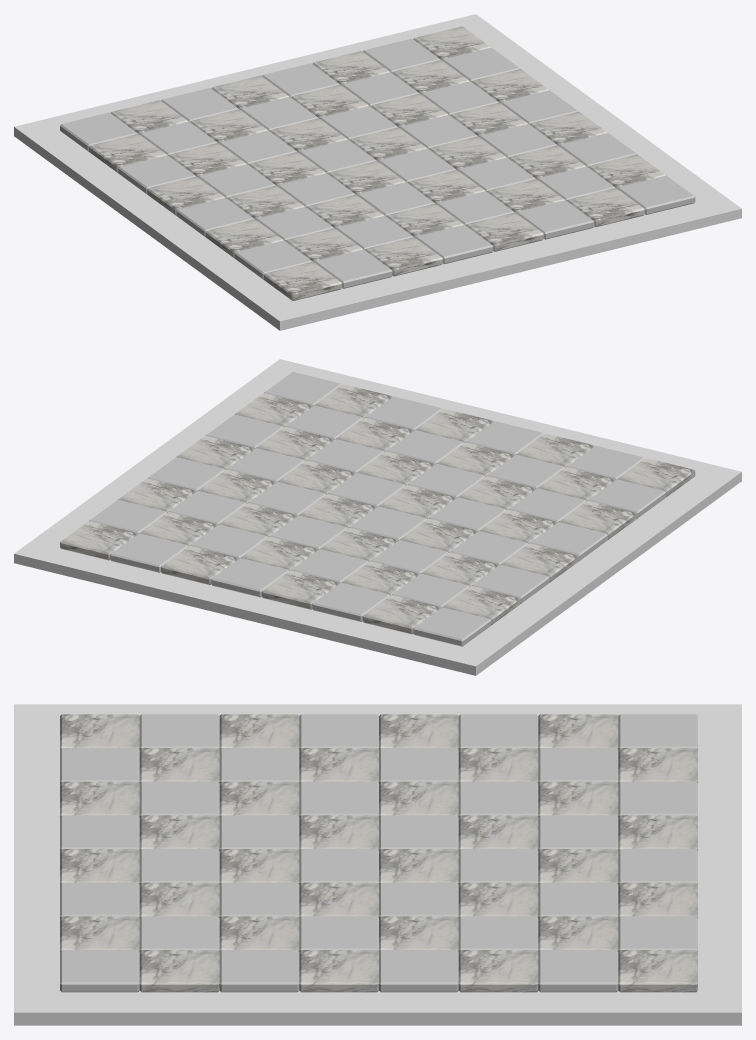
File: board.fbx
3 views of the same model, one above another, from view 1: azimuth 30°, elevation 25°; view 2: azimuth 150°, elevation 25°; view 3: azimuth 270°, elevation 25° (orthographic). The views are drawn at different scales.
Parts seen in each view (by area): view 1: Cube.001, Cube, Cube.005, Cube.006, Cube.003, Cube.007, Cube.002, Cube.004, Cube.008, Cube.041, Cube.009, Cube.033 (+53 smaller); view 2: Cube.001, Cube.057, Cube.060, Cube.058, Cube.064, Cube.059, Cube.063, Cube.062, Cube.061, Cube.033, Cube.009, Cube.041 (+53 smaller); view 3: Cube.001, Cube.016, Cube.048, Cube.024, Cube.056, Cube.032, Cube.064, Cube.008, Cube.040, Cube.043, Cube.019, Cube.046 (+53 smaller).
Boxes of the visible parts, <box> form: Cube.001: <box>14,14,741,330</box>; Cube: <box>264,262,341,300</box>; Cube.005: <box>466,212,543,251</box>; Cube.006: <box>516,200,594,239</box>; Cube.003: <box>365,237,442,276</box>; Cube.007: <box>567,188,644,227</box>; Cube.002: <box>314,249,392,288</box>; Cube.004: <box>415,225,493,264</box>; Cube.008: <box>617,175,695,214</box>; Cube.041: <box>118,155,195,194</box>; Cube.009: <box>234,240,312,279</box>; Cube.033: <box>147,176,225,215</box>; Cube.001: <box>14,359,741,675</box>; Cube.057: <box>413,607,491,646</box>; Cube.060: <box>261,570,339,609</box>; Cube.058: <box>362,595,440,634</box>; Cube.064: <box>60,521,137,560</box>; Cube.059: <box>312,582,389,621</box>; Cube.063: <box>110,533,188,572</box>; Cube.062: <box>161,545,238,584</box>; Cube.061: <box>211,558,288,597</box>; Cube.033: <box>501,543,578,582</box>; Cube.009: <box>588,479,666,518</box>; Cube.041: <box>472,564,549,603</box>; Cube.001: <box>14,704,741,1025</box>; Cube.016: <box>139,950,219,992</box>; Cube.048: <box>458,950,538,992</box>; Cube.024: <box>219,950,299,992</box>; Cube.056: <box>538,950,618,992</box>; Cube.032: <box>299,950,378,992</box>; Cube.064: <box>618,950,697,992</box>; Cube.008: <box>60,950,139,992</box>; Cube.040: <box>379,950,458,992</box>; Cube.043: <box>458,781,538,816</box>; Cube.019: <box>219,781,299,816</box>; Cube.046: <box>458,882,538,917</box>.
Size of the model in its own units: 1831 by 64.43 by 1826.
